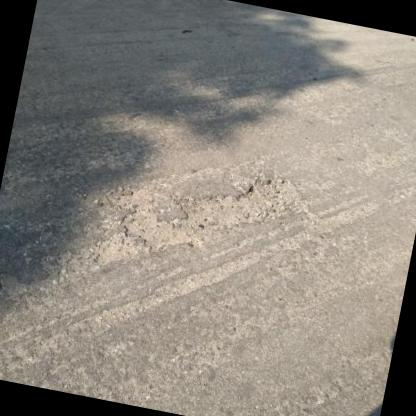pothole: (86, 141, 310, 301)
